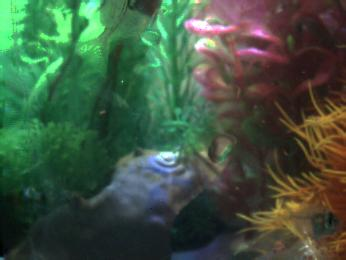X-ray fish: (82, 1, 161, 63), (282, 198, 341, 238)
